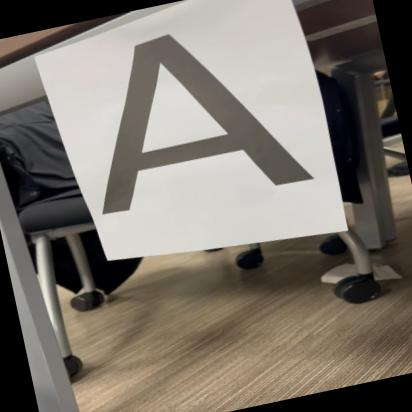seat: (61, 5, 327, 234)
